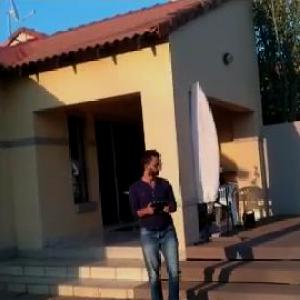follow: (129, 148, 188, 299)
